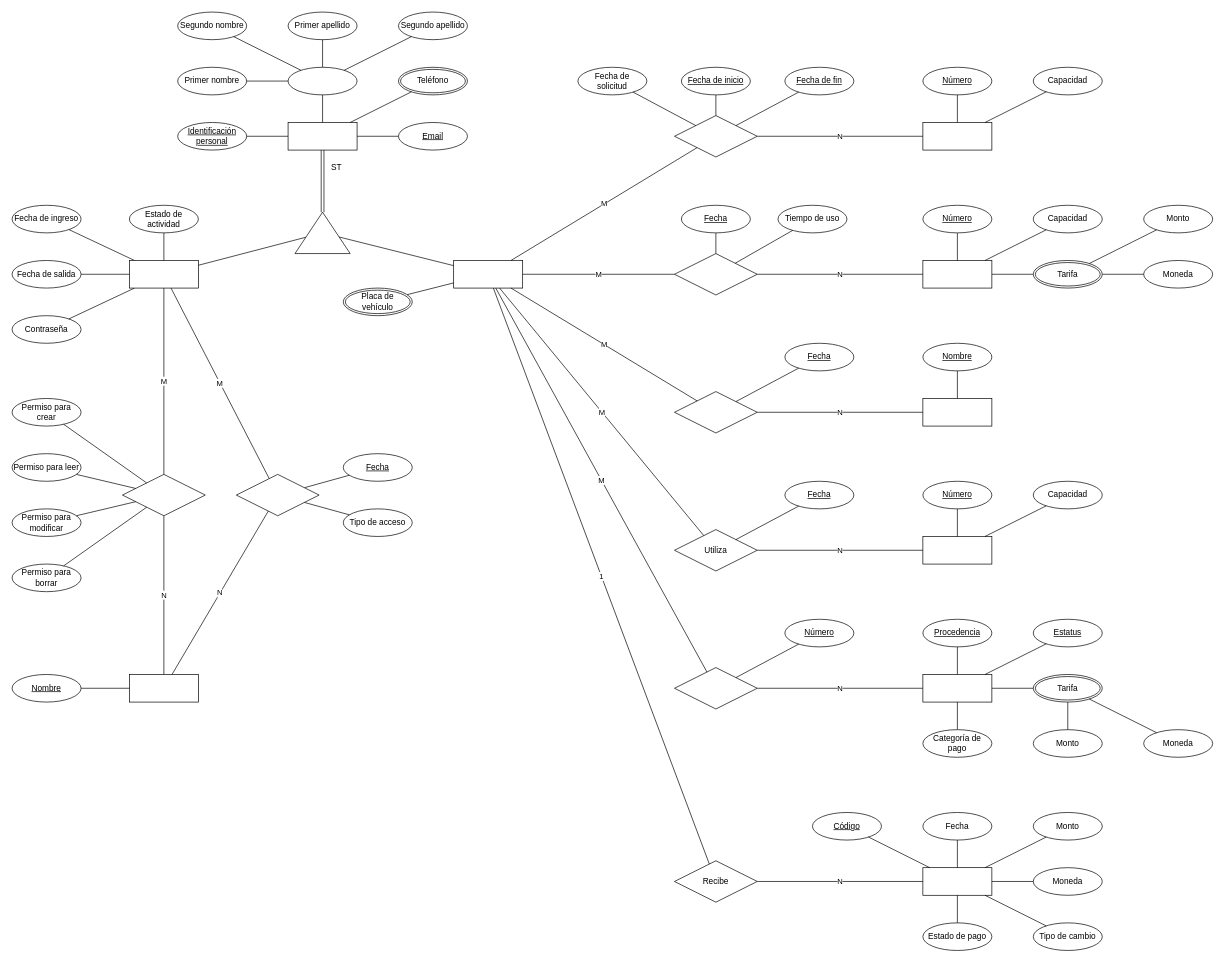
This 1225x963 diagram has some shape labels left out. Each missing label, with the centre of its shape:
"Accede a" belongs at (x=277, y=495).
"Administrador" belongs at (x=163, y=274).
"Autorizado para" belongs at (x=163, y=495).
"Cliente" belongs at (x=488, y=274).
"Cobro" belongs at (x=957, y=881).
"Kayak" belongs at (x=957, y=274).
"Nombre completo" belongs at (x=322, y=81).
"Parcela" belongs at (x=957, y=136).
"Recorre" belongs at (x=715, y=412).
"Reserva" belongs at (x=715, y=136).
"Sendero" belongs at (x=957, y=412).
"Tipo de entidad" belongs at (x=163, y=688).
"Tipo de visitante" belongs at (x=957, y=688).
"Usuario" belongs at (x=322, y=136).
"Viaja en" belongs at (x=715, y=274).
"Visita con" belongs at (x=715, y=688).
"Área de picnic" belongs at (x=957, y=550).
